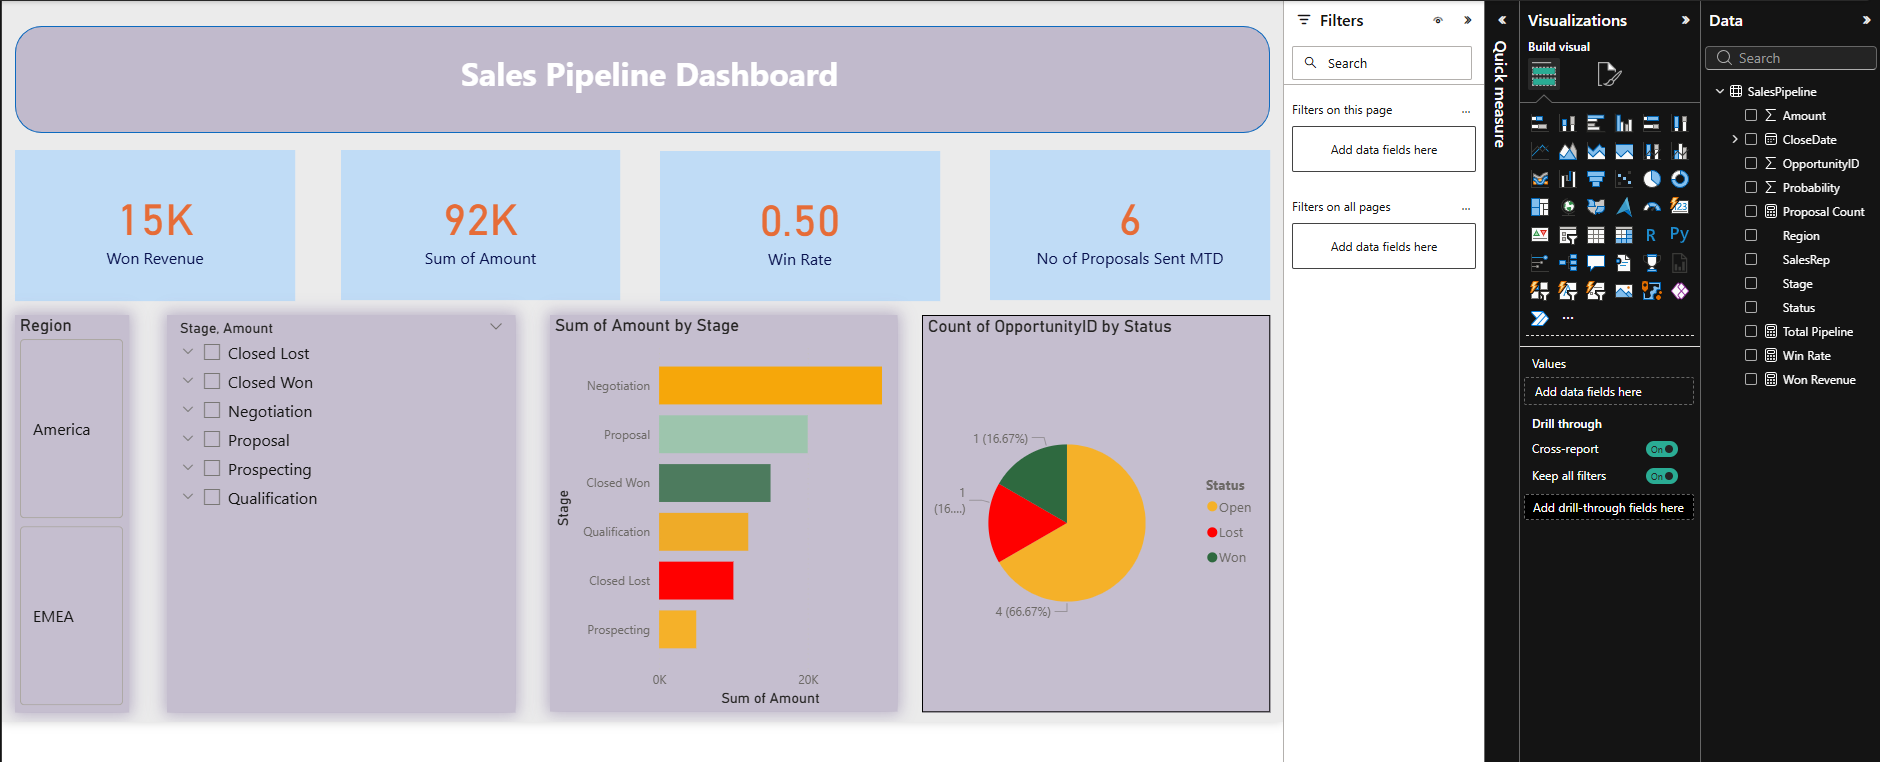

What the dashboard file says about the page in this screenshot:
{"tool":"powerbi","page":{"name":"Sales Pipeline Dashboard","canvas":[1280,720],"ordinal":0},"visuals":[{"type":"card","fields":{"Values":["Sum(SalesPipeline.Amount)"]},"box":[338.7,148.9,278.8,149.9],"z":0},{"type":"card","fields":{"Values":["SalesPipeline.Win Rate"]},"box":[657.5,149.9,279.8,149.9],"z":1000},{"type":"card","fields":{"Values":["SalesPipeline.Won Revenue"]},"box":[13,148.9,279.8,150.9],"z":2000},{"type":"slicer","fields":{"Values":["SalesPipeline.Stage","SalesPipeline.Amount"]},"box":[164.9,313.8,347.7,396.7],"z":3000},{"type":"clusteredBarChart","fields":{"Category":["SalesPipeline.Stage"],"Y":["Sum(SalesPipeline.Amount)"]},"box":[547.6,313.8,346.7,395.7],"z":4000},{"type":"pieChart","fields":{"Category":["SalesPipeline.Status"],"Y":["CountNonNull(SalesPipeline.OpportunityID)"]},"box":[919.3,313.8,347.7,396.7],"z":5000},{"type":"shape","box":[13,25,1254,106.9],"z":7000},{"type":"textbox","box":[453.6,45,406.7,67.9],"z":8000},{"type":"card","fields":{"Values":["SalesPipeline.Proposal Count"]},"box":[987.2,148.9,279.8,149.9],"z":9000},{"type":"advancedSlicerVisual","fields":{"Values":["SalesPipeline.Region"]},"box":[13,313.8,113.9,396.7],"z":9001}]}

Visuals, with their boxes in screenshot pixels (x1, y1, x2, y2):
card - Sum(SalesPipeline.Amount): [left=542, top=145, right=824, bottom=297]
card - SalesPipeline.Win Rate: [left=864, top=146, right=1146, bottom=298]
card - SalesPipeline.Won Revenue: [left=214, top=145, right=496, bottom=298]
slicer - SalesPipeline.Stage x SalesPipeline.Amount: [left=367, top=312, right=718, bottom=712]
clusteredBarChart - SalesPipeline.Stage x Sum(SalesPipeline.Amount): [left=753, top=312, right=1103, bottom=711]
pieChart - SalesPipeline.Status x CountNonNull(SalesPipeline.OpportunityID): [left=1128, top=312, right=1479, bottom=712]
shape: [left=214, top=20, right=1479, bottom=128]
textbox: [left=658, top=41, right=1069, bottom=109]
card - SalesPipeline.Proposal Count: [left=1197, top=145, right=1479, bottom=297]
advancedSlicerVisual - SalesPipeline.Region: [left=214, top=312, right=329, bottom=712]
